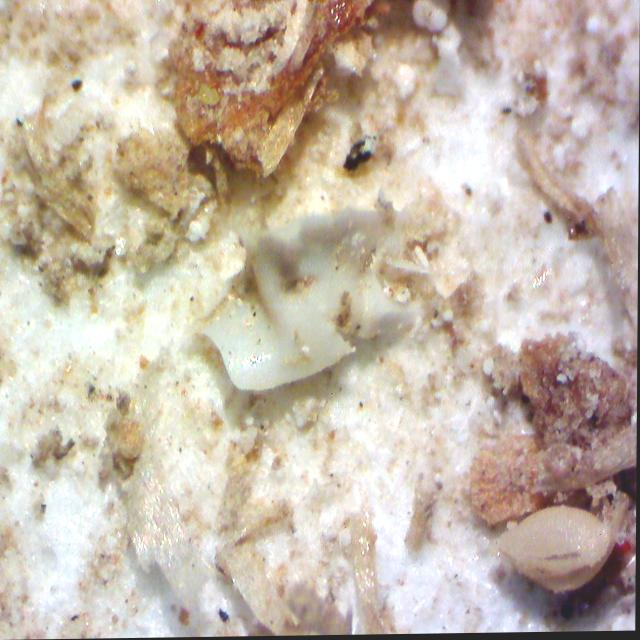microplastic: (201, 194, 472, 393)
